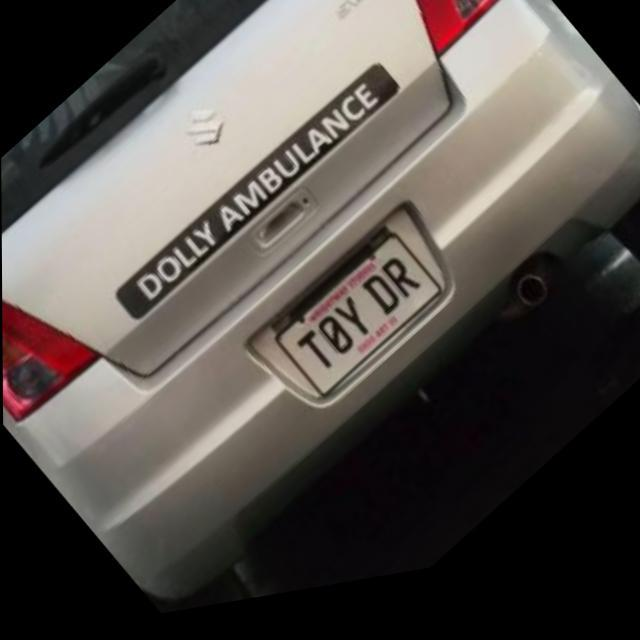license_plate: (272, 237, 443, 416)
